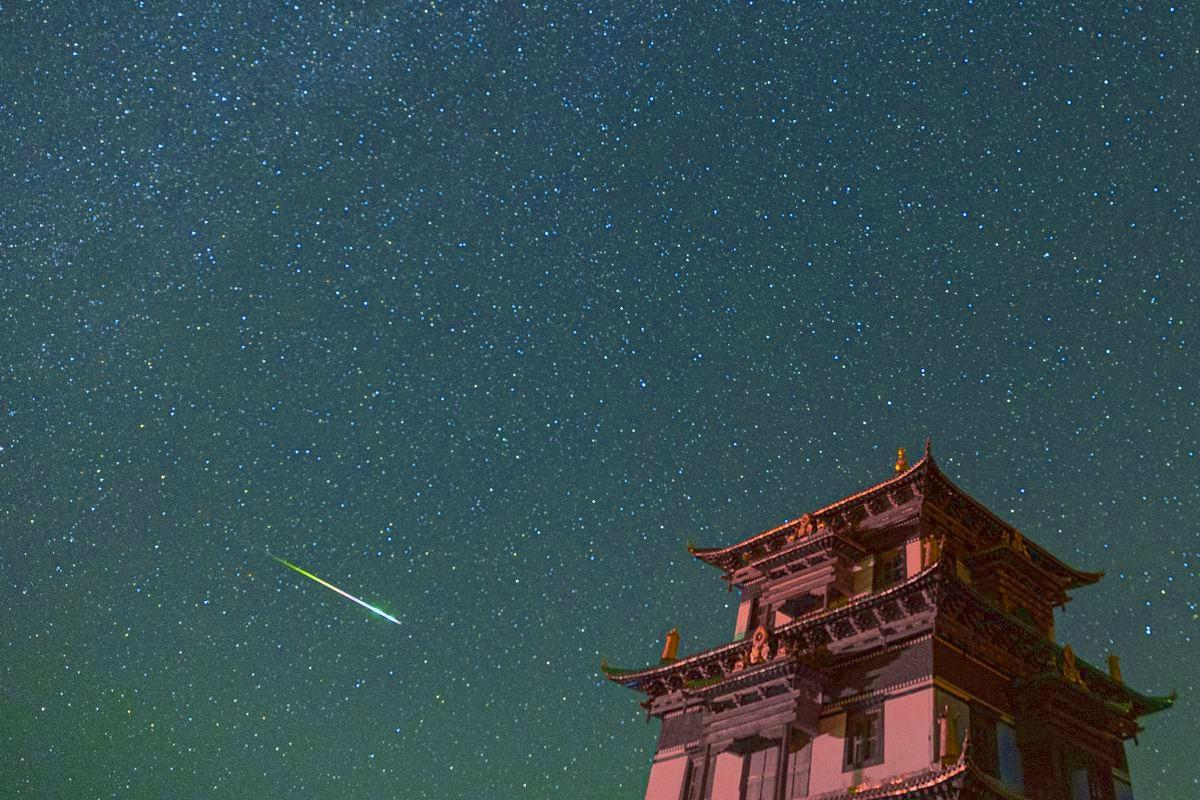meteorite: (270, 549, 411, 630)
